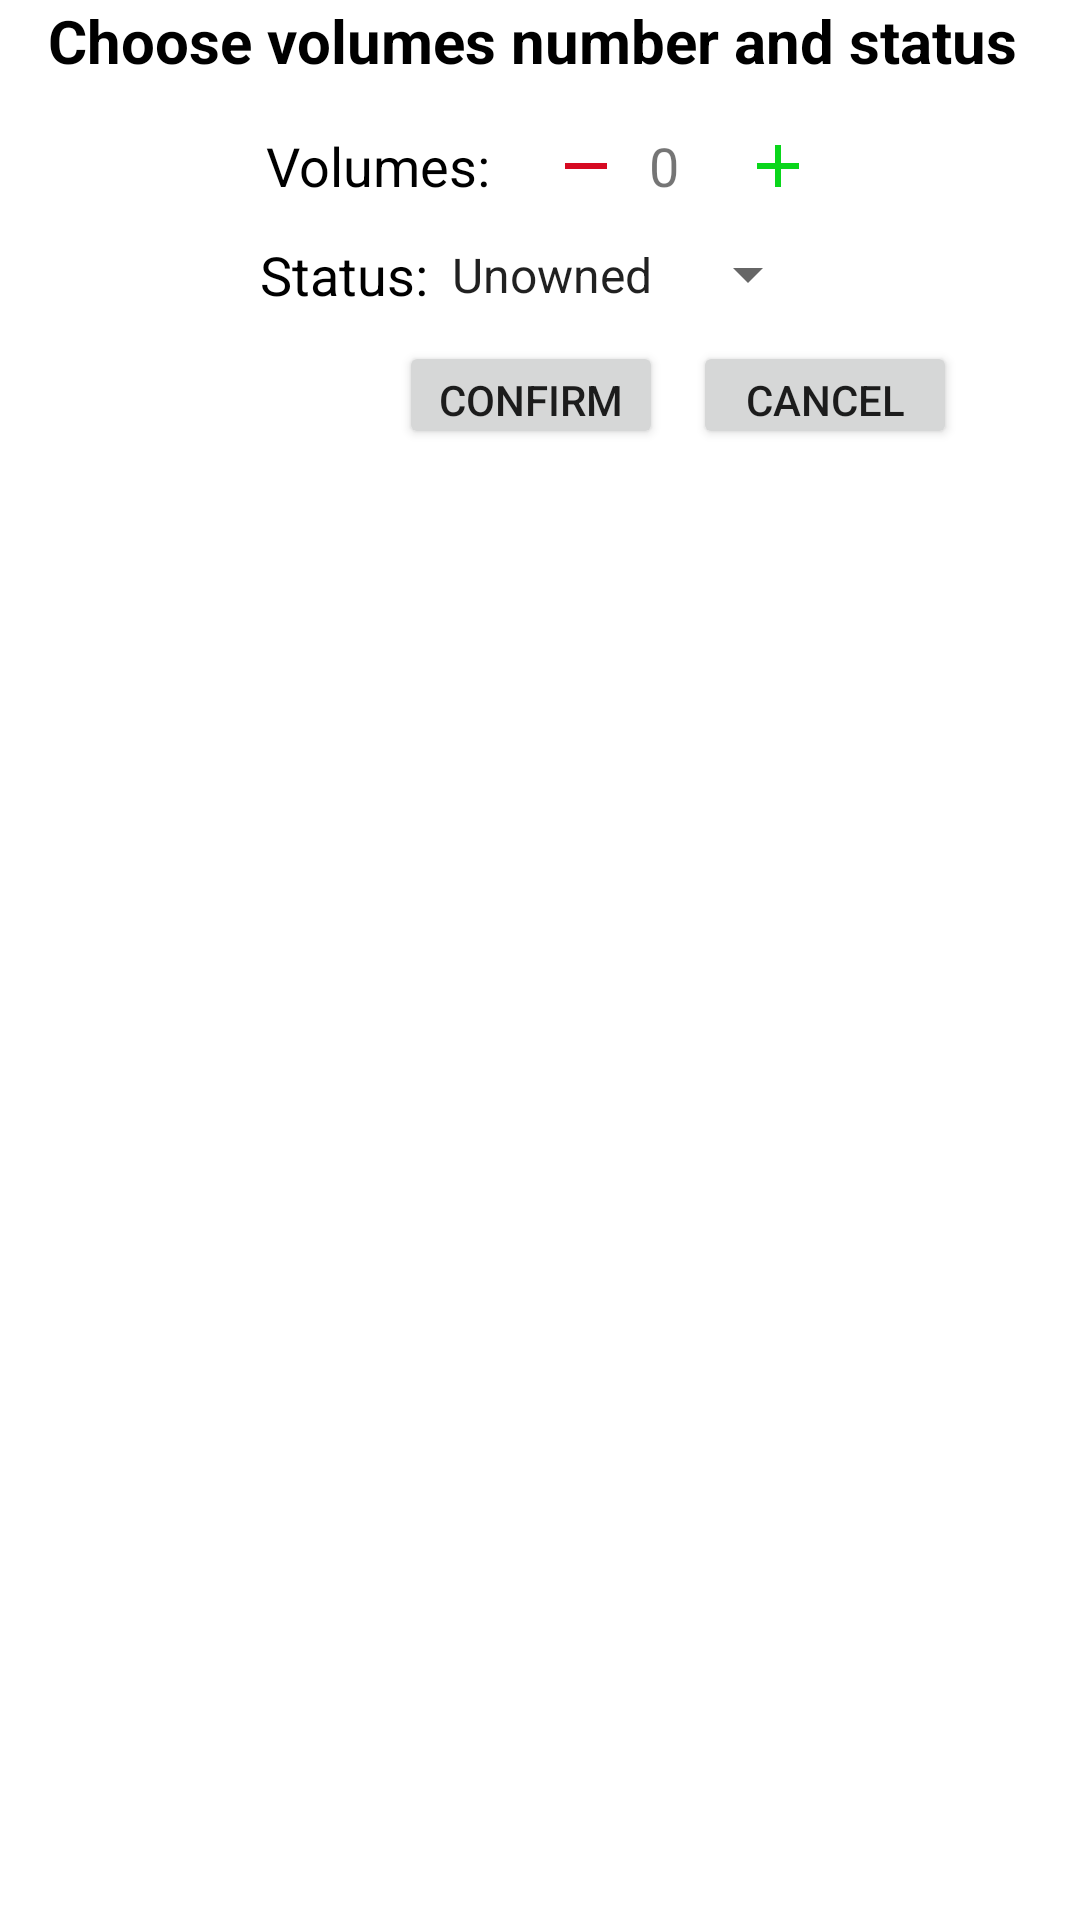

Screen size 1080px×1920px. Icon name, then its center in pixels as (x=x, y=y):
add: (x=778, y=166)
